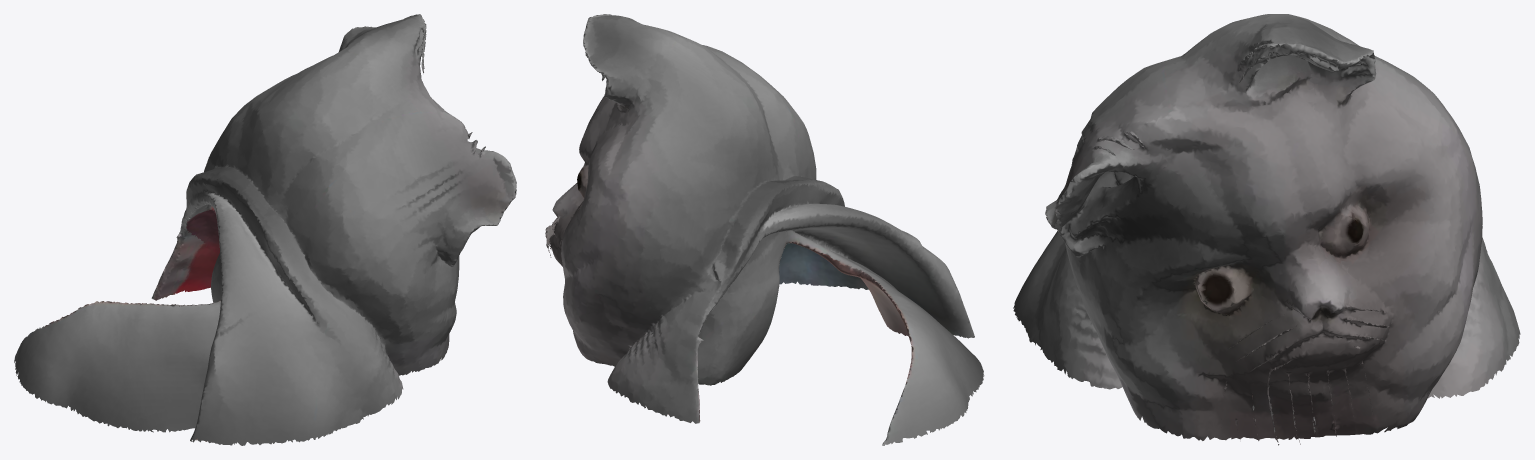
Rendered from meme2_cat.fbx.
The picture shows the model from 3 angles, left to right: view 1: azimuth 30°, elevation 25°; view 2: azimuth 150°, elevation 25°; view 3: azimuth 270°, elevation 25°; orthographic projection. The views are drawn at different scales.
Visible parts, largest first — view 1: tripo_node_d46aed99-3c31-4219-8d80-b8554d628eb0; view 2: tripo_node_d46aed99-3c31-4219-8d80-b8554d628eb0; view 3: tripo_node_d46aed99-3c31-4219-8d80-b8554d628eb0.
Boxes of the visible parts, box(x1,y1,x2,y2) form: tripo_node_d46aed99-3c31-4219-8d80-b8554d628eb0: box(14, 14, 516, 445); tripo_node_d46aed99-3c31-4219-8d80-b8554d628eb0: box(545, 14, 984, 445); tripo_node_d46aed99-3c31-4219-8d80-b8554d628eb0: box(1013, 14, 1520, 445).
Size of the model in its own units: 96.14 by 68.62 by 77.85.
1 material, 1 textured.
